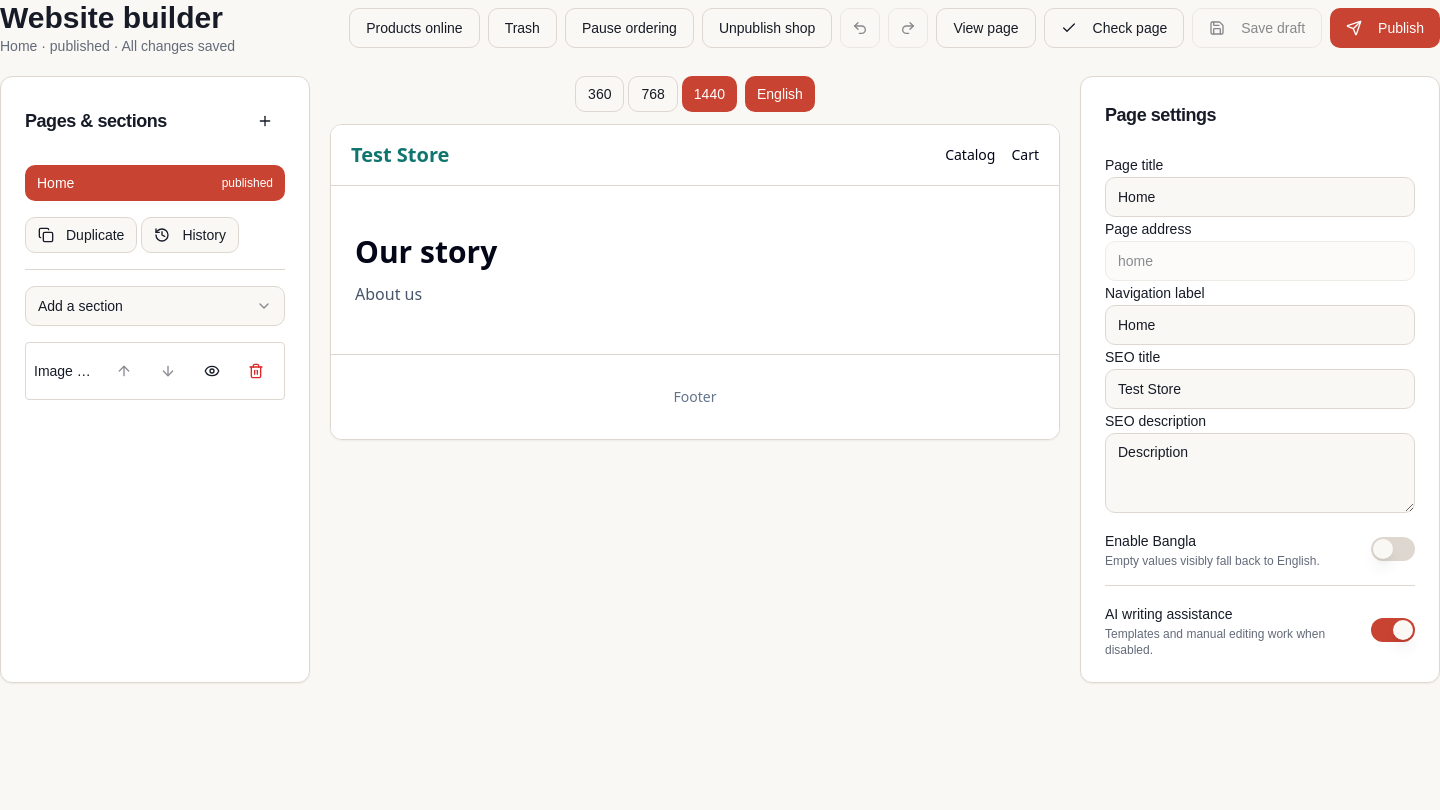
Test: WebsiteBuilder image sections › offers guided, template, and blank page creation
Click the button named "Create page" at coordinates (265, 121), box [245,101,285,141]
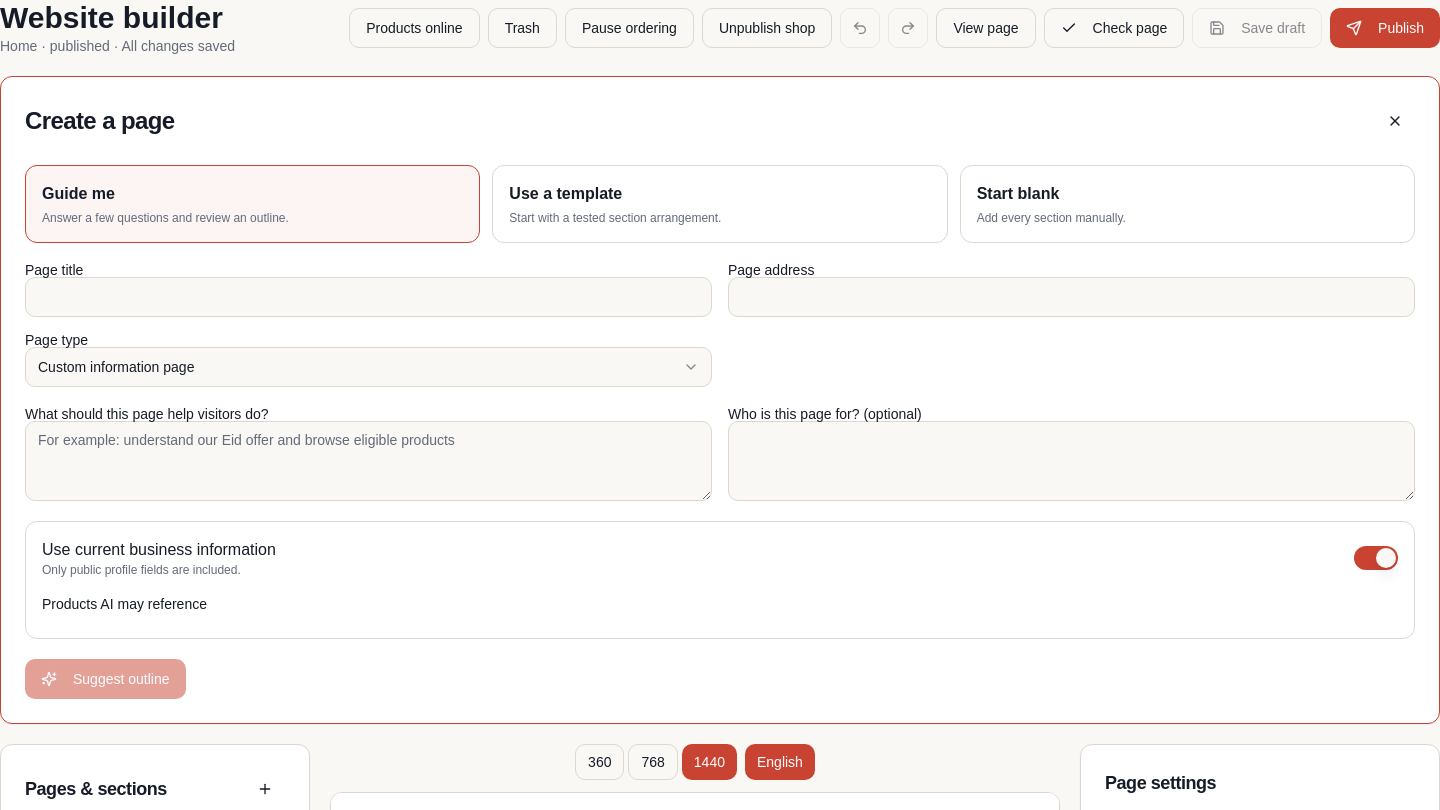
Expected: the button "Guide me Answer a few questions and review an outline." is shown, [25,165,480,243]
Expected: the button "Use a template Start with a tested section arrangement." is shown, [492,165,948,243]
Expected: the button "Start blank Add every section manually." is shown, [960,165,1415,243]
